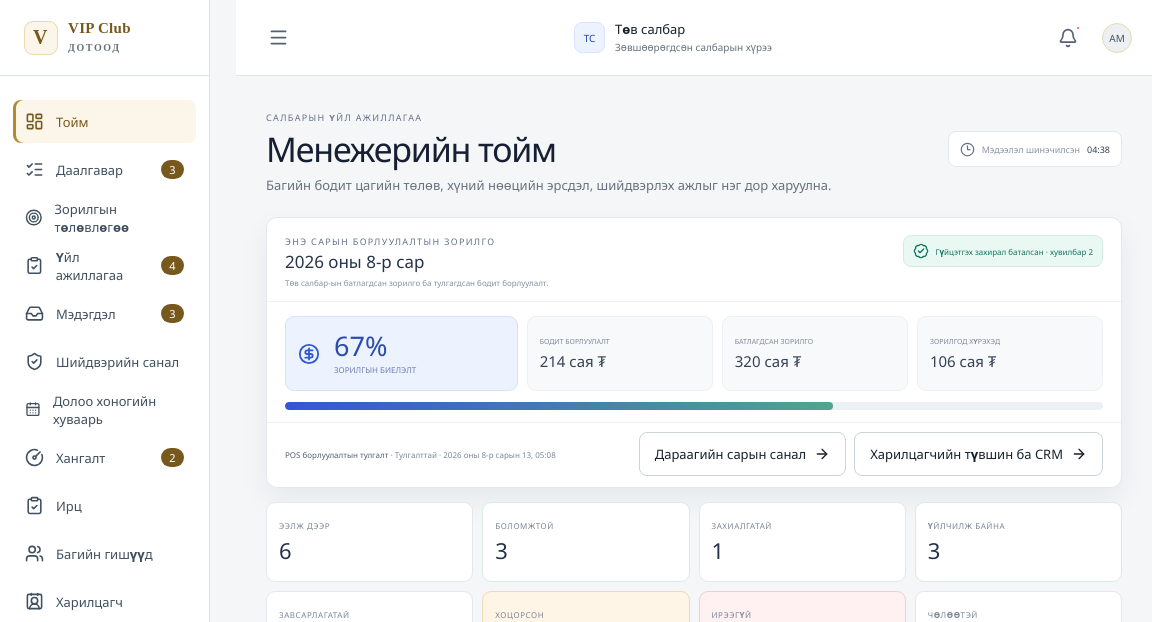
Test: WeeklySchedulePage › submits a manager recommendation without exposing an approval action
Click the link "Шийдвэрийн санал": (102, 362) [25, 352, 179, 371]
(page scrolled)
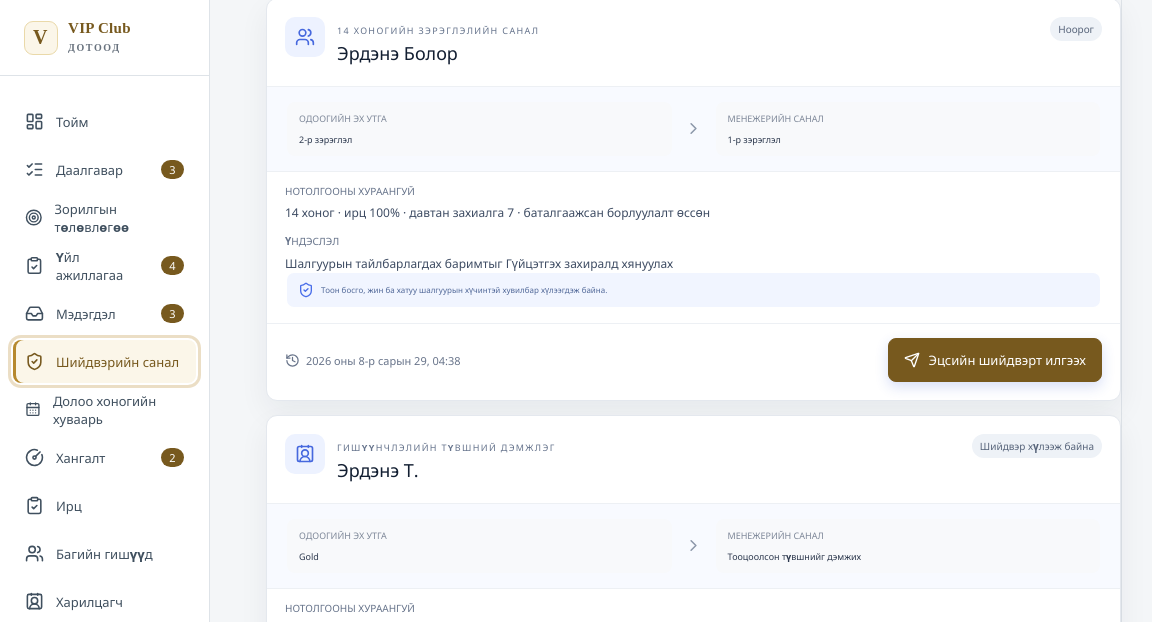
Click the button "Эцсийн шийдвэрт илгээх": (995, 360) [888, 338, 1102, 382]
(page scrolled)
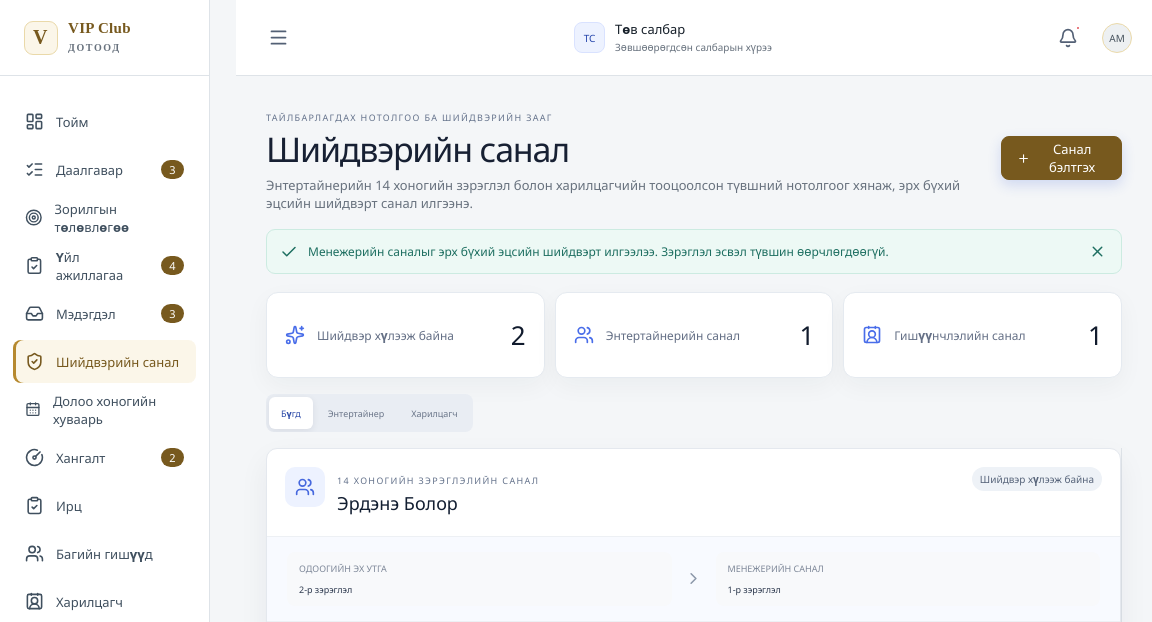
Expected: the message shows "Зэрэглэл эсвэл түвшин өөрчлөгдөөгүй", [308, 243, 889, 260]
Expected: the button "Эцсийн шийдвэрт илгээх" is gone
